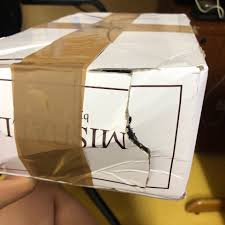damaged package: (120, 78, 156, 192)
